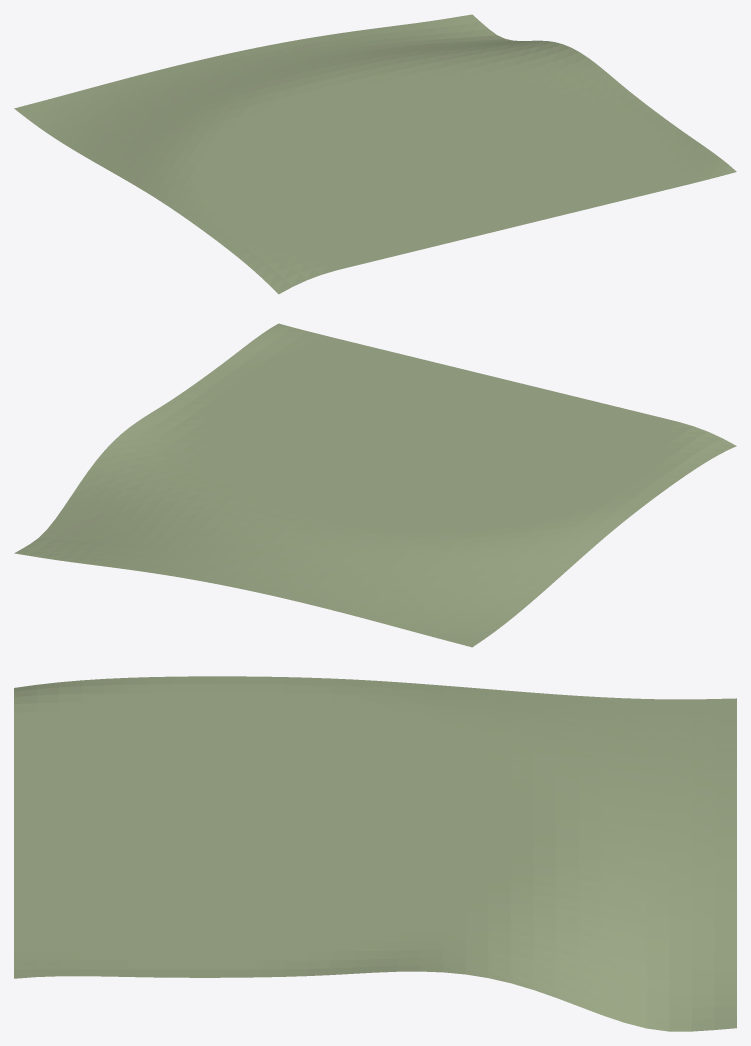
Rendered from alpine-2-2.glb.
The picture shows the model from 3 angles, top to bottom: view 1: azimuth 30°, elevation 25°; view 2: azimuth 150°, elevation 25°; view 3: azimuth 270°, elevation 25°; orthographic projection. The views are drawn at different scales.
Visible parts, largest first — view 1: alpine-2-2; view 2: alpine-2-2; view 3: alpine-2-2.
Part boxes in pixels (x1,y1,x2,y2): alpine-2-2: (14, 14, 736, 294); alpine-2-2: (14, 323, 736, 647); alpine-2-2: (14, 676, 736, 1031).
Size of the model in its own units: 256 by 23.46 by 256.
